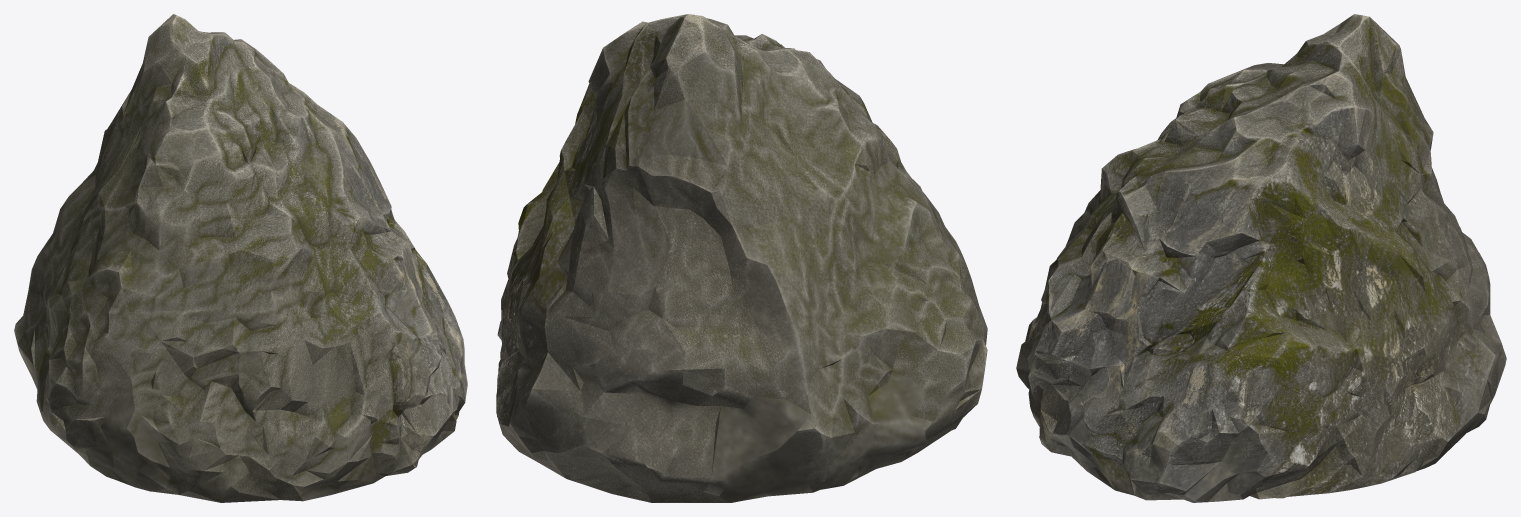
File: mossy-boulder-2.glb
The picture shows the model from 3 angles, left to right: view 1: azimuth 30°, elevation 25°; view 2: azimuth 150°, elevation 25°; view 3: azimuth 270°, elevation 25°; orthographic projection. The views are drawn at different scales.
Parts seen in each view (by area): view 1: output_unwrapped; view 2: output_unwrapped; view 3: output_unwrapped.
Boxes of the visible parts, bbox=[...] form: output_unwrapped: bbox=[14, 14, 467, 502]; output_unwrapped: bbox=[496, 14, 987, 502]; output_unwrapped: bbox=[1016, 14, 1506, 502].
Bounding box in the file's own units: 0.9536 × 0.8833 × 1.
1 material, 1 textured.
